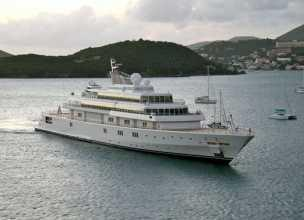otherboat: (268, 106, 297, 122), (195, 93, 218, 105)
yacht: (40, 59, 256, 166)
